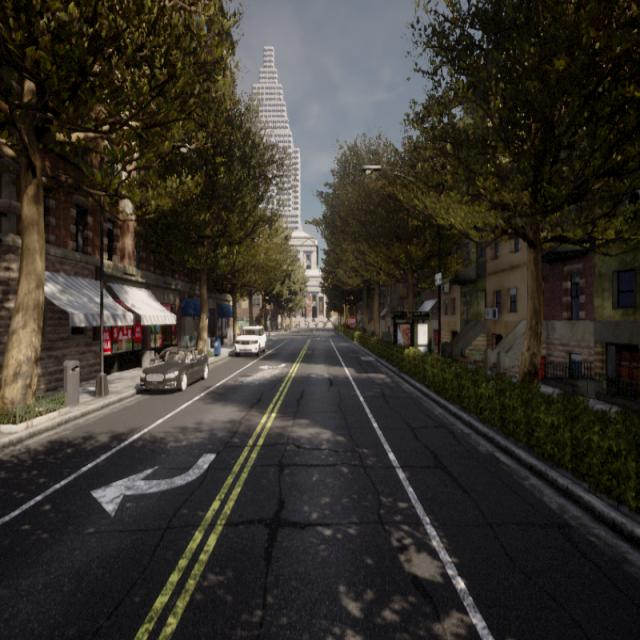stop sign: (347, 314, 359, 331)
